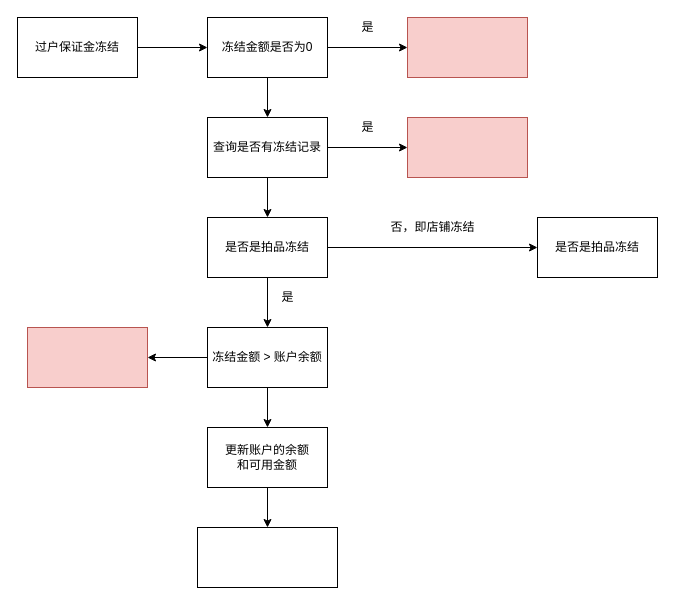
The diagram is 675 pixels wide and 605 high, and some of its shapes have lost their labels. The box of each missing label's shape, as (x1, y1, x2, y2) in pixels:
余额不足: (26, 326, 148, 388)
冻结成功: (406, 16, 528, 78)
往t_deposit_trans_freeze表中插入一条冻结记录: (196, 526, 338, 588)
用户已经冻结: (406, 116, 528, 178)
